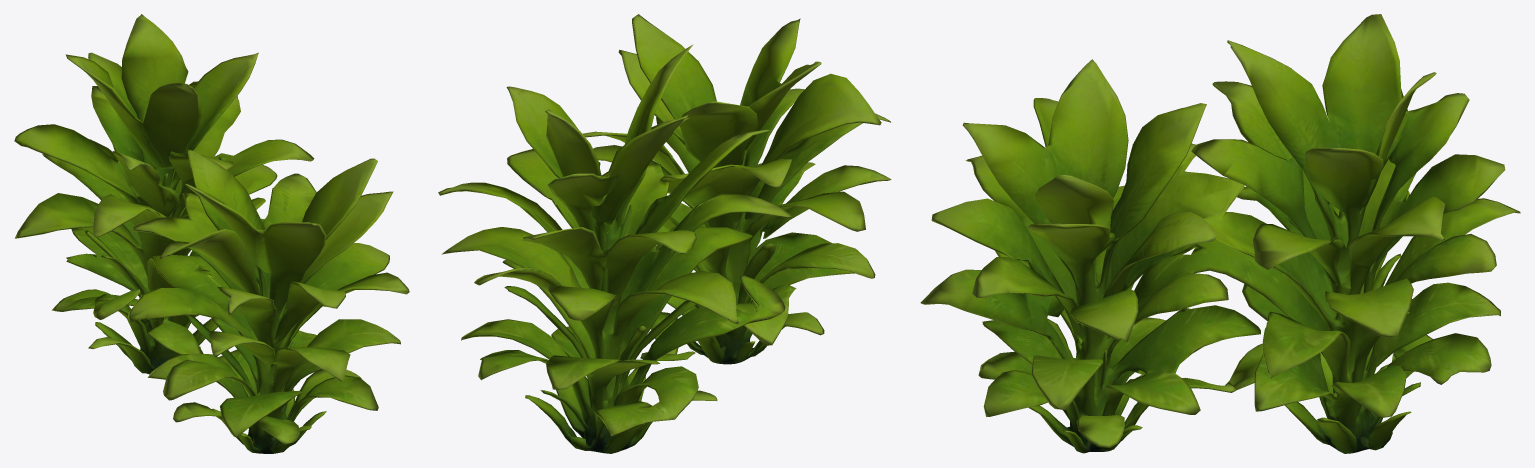
File: plant_stem.glb
3 renders of one model, left to right at view 1: azimuth 30°, elevation 25°; view 2: azimuth 150°, elevation 25°; view 3: azimuth 270°, elevation 25°, orthographic. The views are drawn at different scales.
Visible parts, largest first — view 1: Universal; view 2: Universal; view 3: Universal.
Part boxes in pixels (bbox=[...]): Universal: bbox=[14, 14, 409, 453]; Universal: bbox=[438, 14, 891, 453]; Universal: bbox=[920, 14, 1520, 453].
Bounding box in the file's own units: 0.8348 × 0.9994 × 1.39.
1 material, 1 textured.
